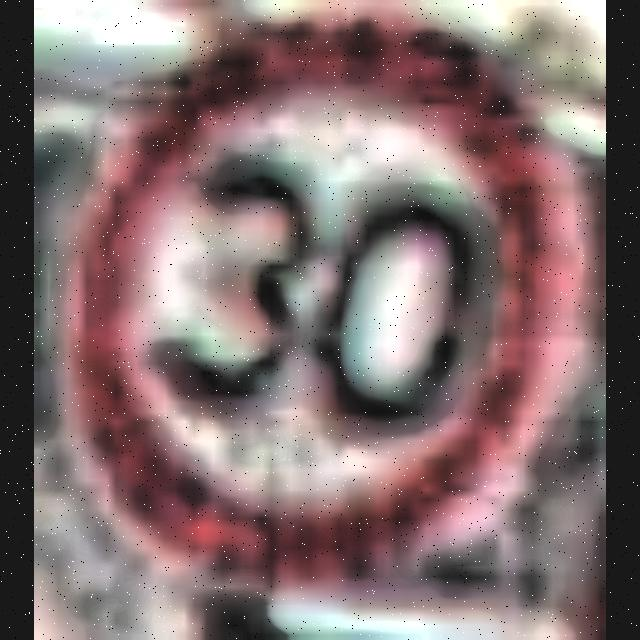speed_30: (90, 31, 566, 570)
